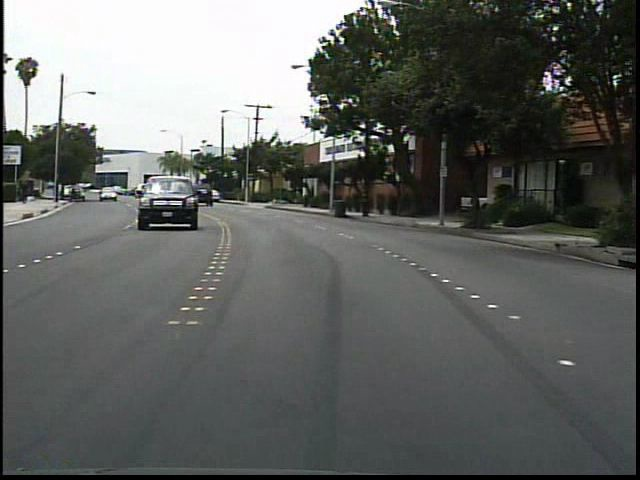person: (17, 181, 32, 206)
